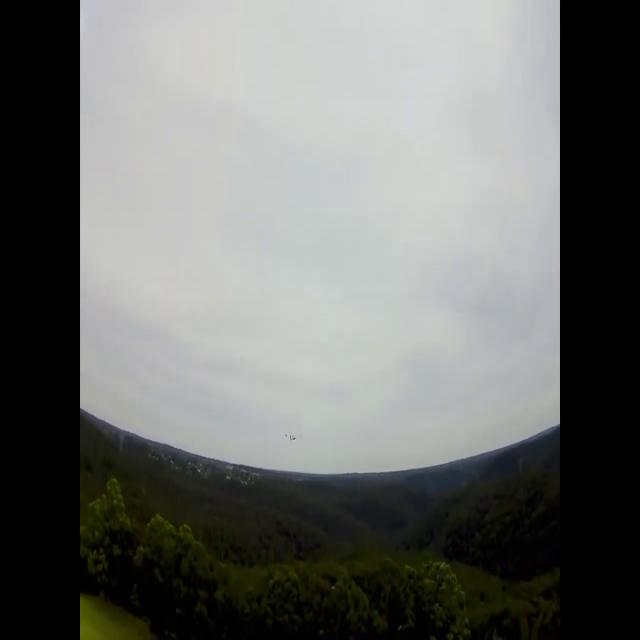iha: (285, 433, 300, 440)
